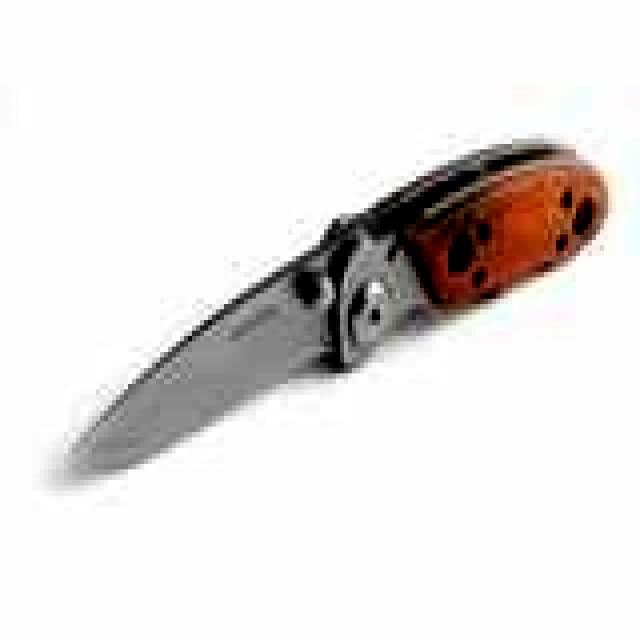pocket-knife: (70, 108, 610, 488)
